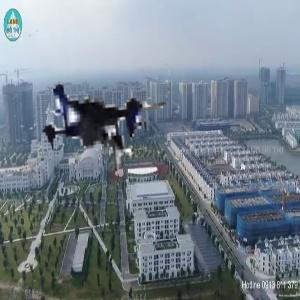drone: (5, 11, 180, 186)
